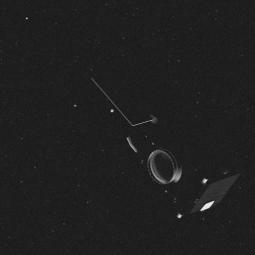proba_3_csc: (88, 62, 239, 219)
